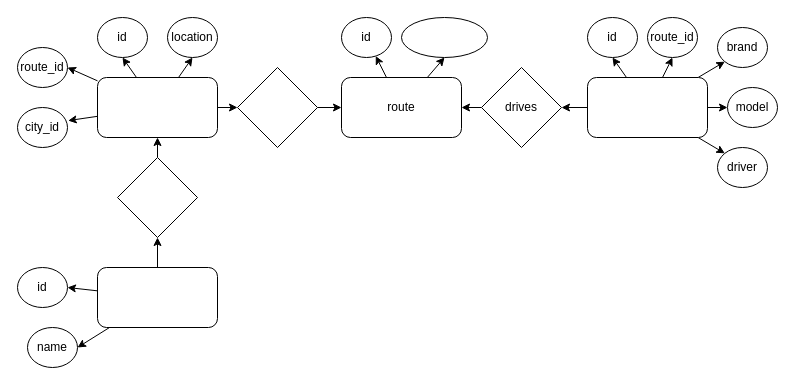
This 795x385 diagram has some shape labels left out. Each missing label, with the centre of its shape:
bus: point 647,107
city: point 157,297
is part of: point 277,107
length_in_km: point 444,37
stops: point 157,107
